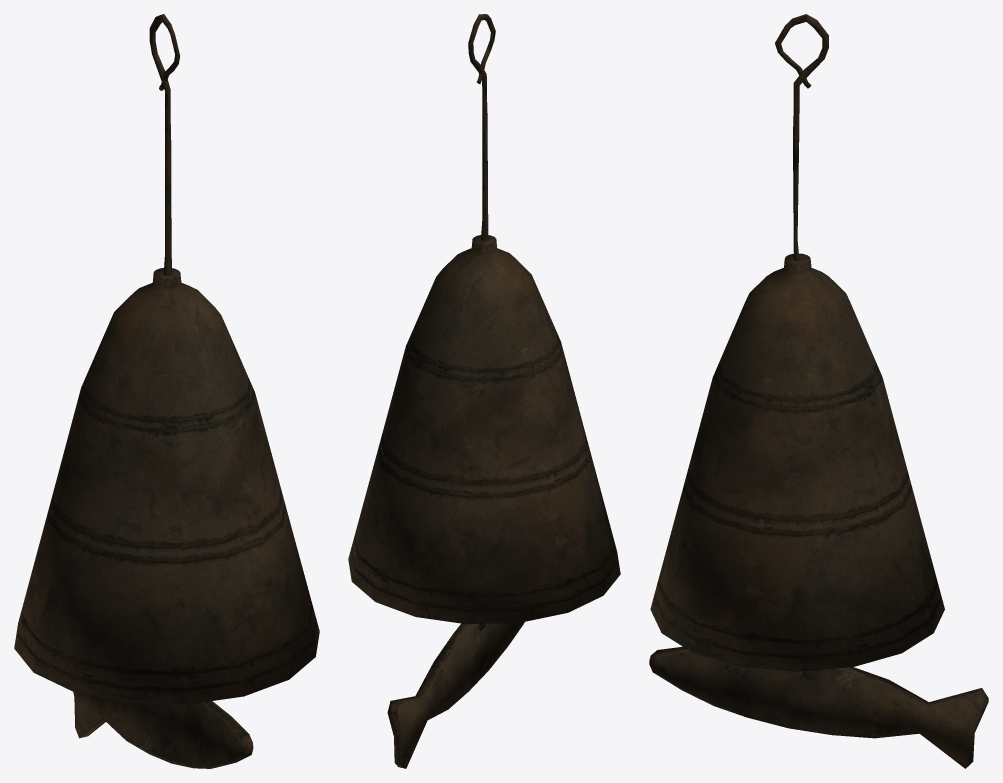
The model's file is SM_JWD_Bell.fbx.
The picture shows the model from 3 angles, left to right: view 1: azimuth 30°, elevation 25°; view 2: azimuth 150°, elevation 25°; view 3: azimuth 270°, elevation 25°; orthographic projection. The views are drawn at different scales.
Parts seen in each view (by area): view 1: SM_JWD_Bell; view 2: SM_JWD_Bell; view 3: SM_JWD_Bell.
Boxes of the visible parts, x1,y1,x2,y2 form: SM_JWD_Bell: (14, 14, 319, 768); SM_JWD_Bell: (348, 14, 620, 768); SM_JWD_Bell: (649, 14, 988, 768).
Size of the model in its own units: 7.46 by 8.58 by 20.95.
Materials: 1 (1 with a texture image).
